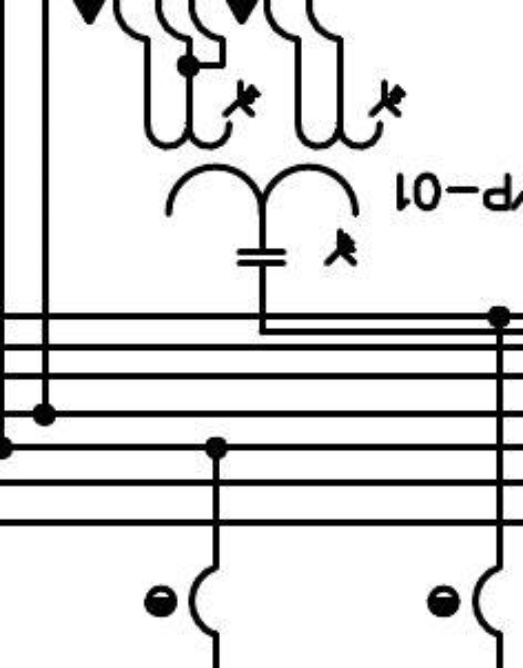115_cvt_3p: (143, 77, 409, 267)
